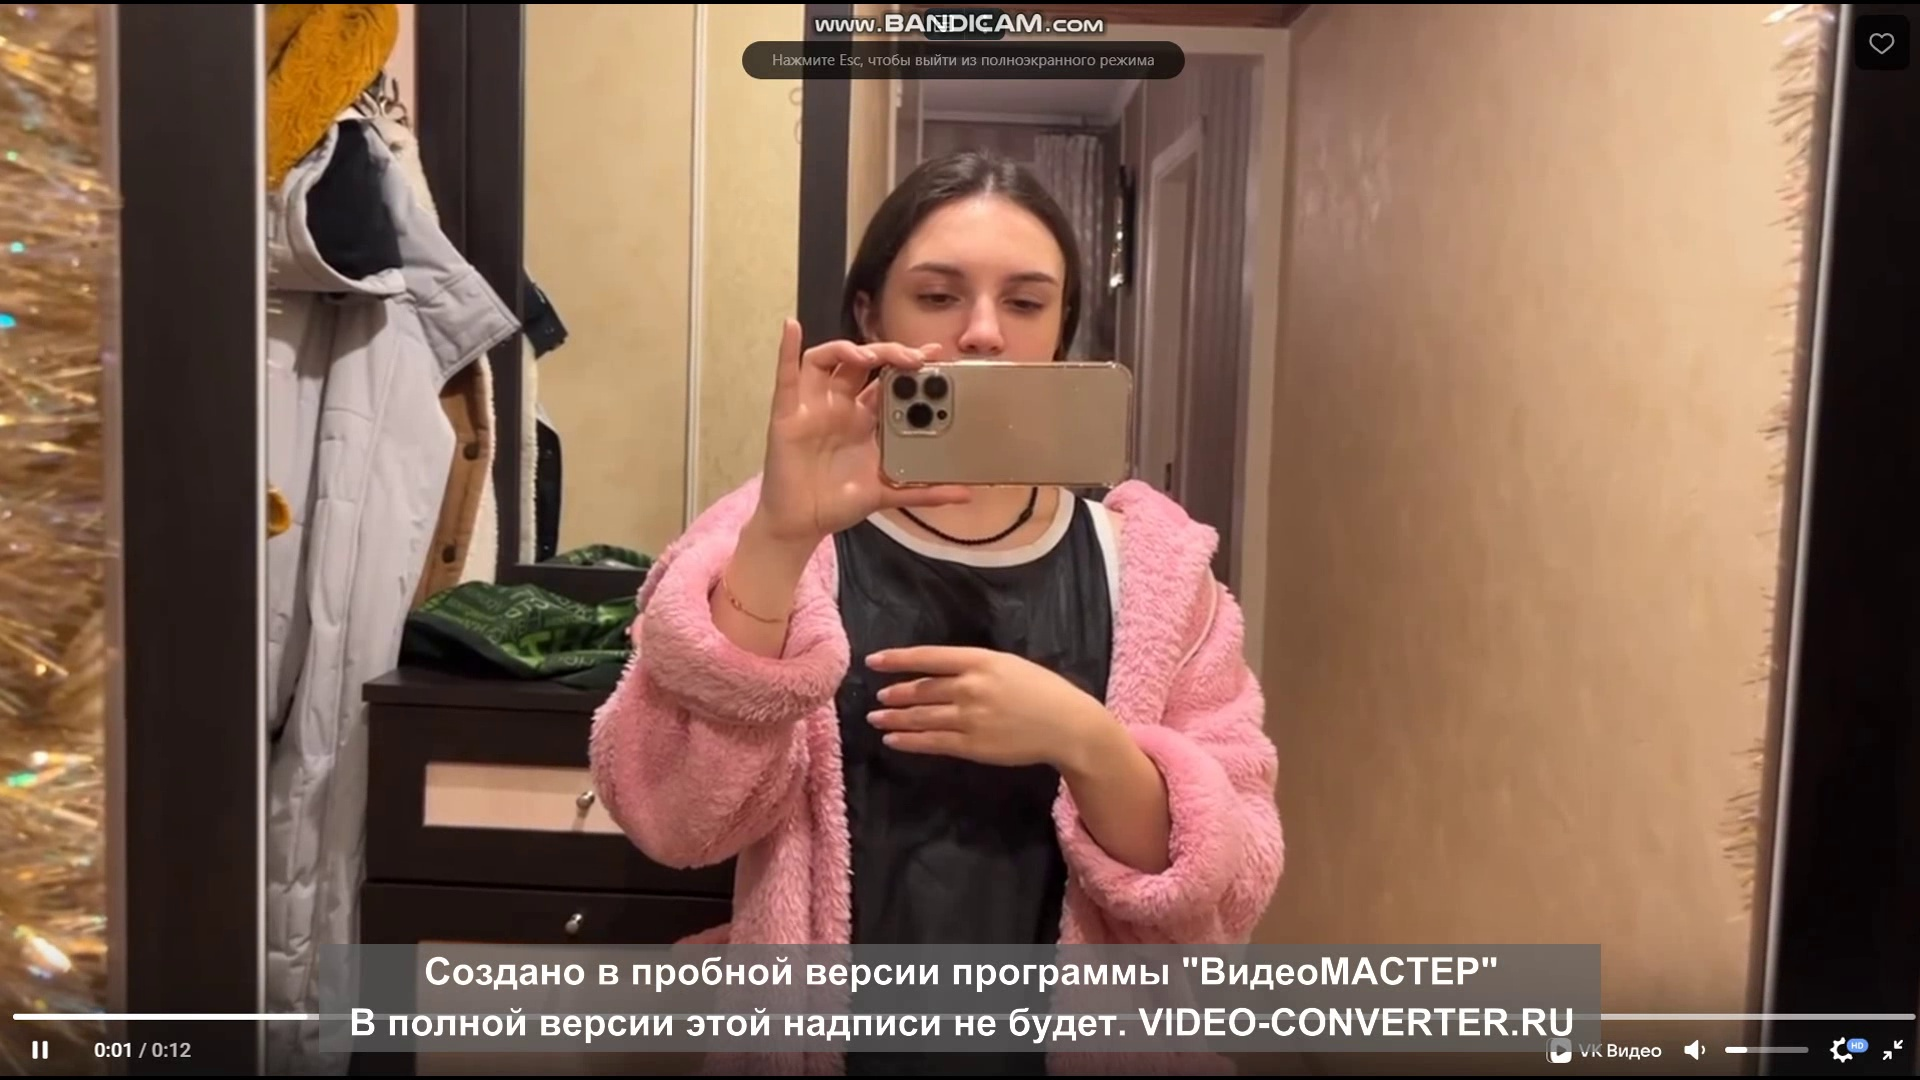Кисть: (860, 637, 1069, 769)
